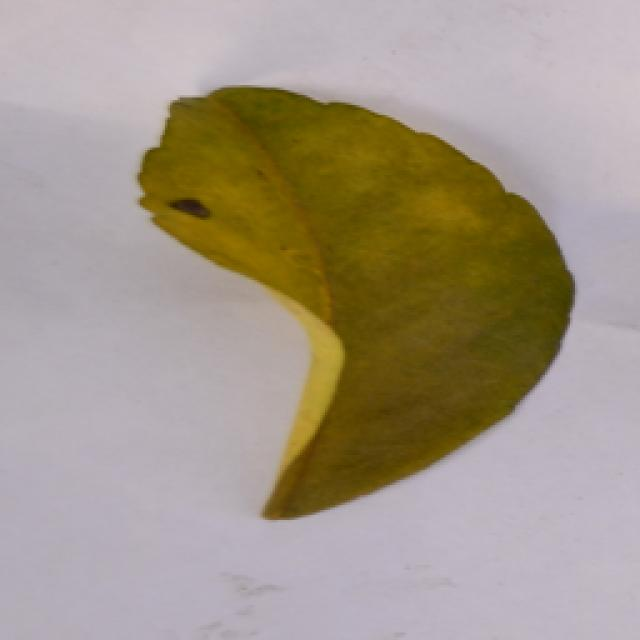canker: (143, 110, 572, 509)
